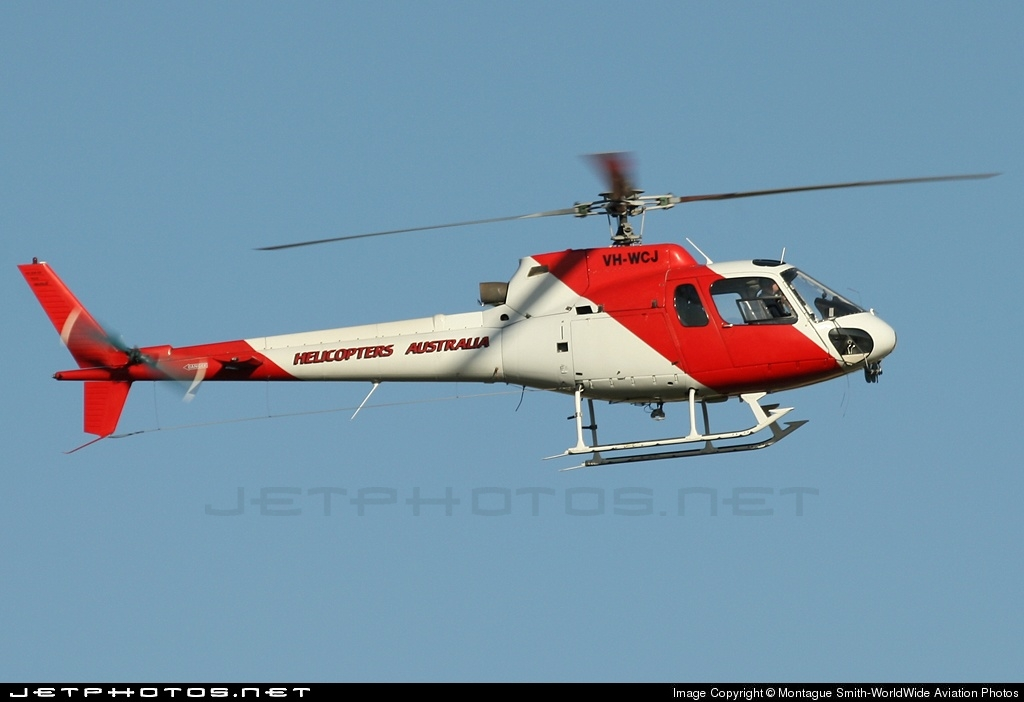number: (602, 248, 665, 269)
